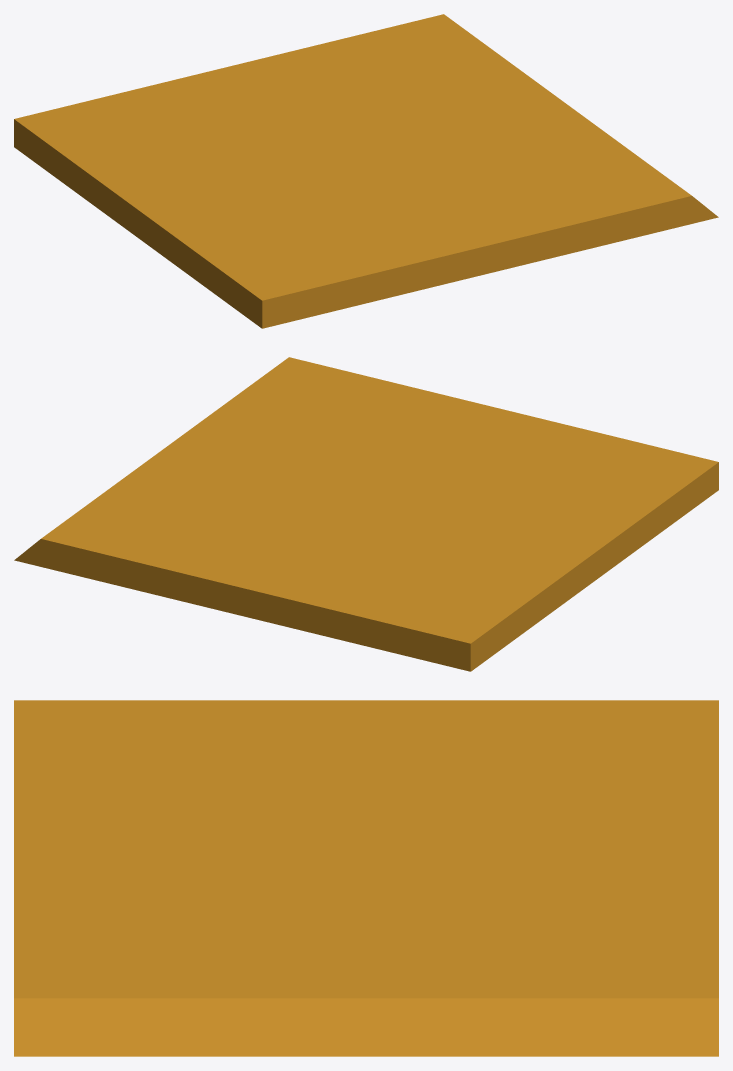
File: Roof-Eaves-4x4-Side.FBX
3 views of the same model, one above another, from view 1: azimuth 30°, elevation 25°; view 2: azimuth 150°, elevation 25°; view 3: azimuth 270°, elevation 25° (orthographic). The views are drawn at different scales.
Visible parts, largest first — view 1: Roof-Eaves-4x4-Side; view 2: Roof-Eaves-4x4-Side; view 3: Roof-Eaves-4x4-Side.
Boxes of the visible parts, x1=… form: Roof-Eaves-4x4-Side: x1=14, y1=14, x2=718, y2=328; Roof-Eaves-4x4-Side: x1=14, y1=357, x2=718, y2=671; Roof-Eaves-4x4-Side: x1=14, y1=700, x2=718, y2=1056.
Bounding box in the file's own units: 42.5 × 40 × 2.5.
